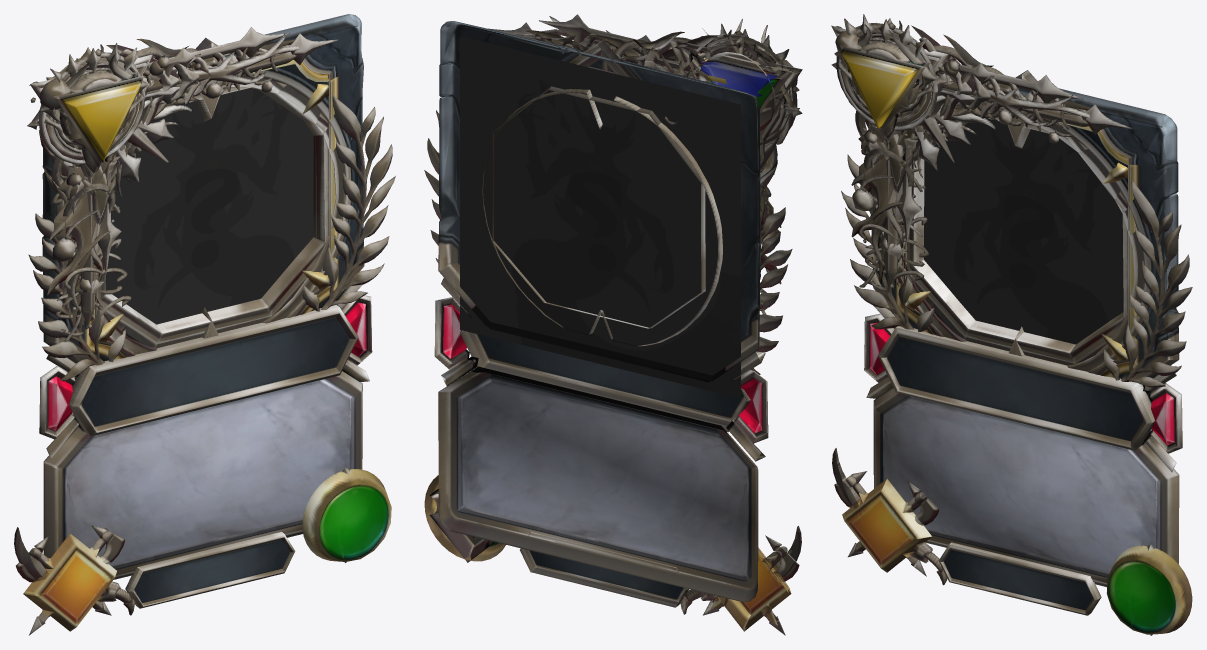
File: card.gltf
The picture shows the model from 3 angles, left to right: view 1: azimuth 30°, elevation 25°; view 2: azimuth 150°, elevation 25°; view 3: azimuth 330°, elevation 25°; orthographic projection. The views are drawn at different scales.
Parts seen in each view (by area): view 1: M_Card_Description, Illustration, M_Card_Name, M_Card_Wreath.001, M_Rosette_Light, M_Card_Border_Weapon, M_Rosette_War, M_Card_Tribe, M_Card_Creature_Health, M_Card_Weapon_Attack, M_Rosette_Nature, M_Card_Border_Hero (+11 smaller); view 2: Illustration, M_Card_Description, M_Card_Border_Advantage, M_Card_Name, M_Rosette_Magic, M_Card_Border_Power, M_Card_Border_Weapon, M_Card_Tribe, M_Card_GemSockets, M_Card_Wreath.001, M_Card_Creature_Attack, M_Rosette_Nature (+12 smaller); view 3: M_Card_Description, Illustration, M_Card_Name, M_Card_Wreath.001, M_Rosette_Light, M_Card_Border_Weapon, M_Rosette_War, M_Card_Tribe, M_Card_Creature_Health, M_Card_Weapon_Attack, M_Card_Border_Spell, M_Rosette_Nature (+11 smaller).
Part boxes in pixels (box(x1,y1,x2,y2)): M_Card_Description: box(43, 371, 362, 579); Illustration: box(67, 88, 344, 386); M_Card_Name: box(69, 305, 358, 436); M_Card_Wreath.001: box(28, 93, 395, 381); M_Rosette_Light: box(38, 47, 296, 325); M_Card_Border_Weapon: box(97, 79, 328, 347); M_Rosette_War: box(41, 27, 338, 327); M_Card_Tribe: box(125, 532, 295, 608); M_Card_Creature_Health: box(302, 469, 391, 561); M_Card_Weapon_Attack: box(16, 525, 125, 635); M_Rosette_Nature: box(29, 33, 300, 314); M_Card_Border_Hero: box(43, 14, 363, 362); Illustration: box(460, 36, 740, 398); M_Card_Description: box(438, 366, 758, 601); M_Card_Border_Advantage: box(439, 21, 760, 382); M_Card_Name: box(460, 330, 750, 432); M_Rosette_Magic: box(525, 30, 802, 212); M_Card_Border_Power: box(438, 21, 759, 381); M_Card_Border_Weapon: box(438, 21, 759, 356); M_Card_Tribe: box(520, 532, 688, 607); M_Card_GemSockets: box(434, 278, 768, 461); M_Card_Wreath.001: box(424, 110, 792, 374); M_Card_Creature_Attack: box(680, 526, 801, 628); M_Rosette_Nature: box(523, 16, 800, 284); M_Card_Description: box(873, 387, 1179, 586); Illustration: box(891, 118, 1157, 403); M_Card_Name: box(878, 326, 1154, 450); M_Card_Wreath.001: box(841, 154, 1192, 387); M_Rosette_Light: box(835, 23, 1088, 283); M_Card_Border_Weapon: box(906, 117, 1177, 365); M_Rosette_War: box(838, 14, 1132, 283); M_Card_Tribe: box(938, 542, 1101, 615); M_Card_Creature_Health: box(1106, 545, 1192, 634); M_Card_Weapon_Attack: box(834, 471, 939, 576); M_Card_Border_Spell: box(875, 108, 1178, 373); M_Rosette_Nature: box(833, 20, 1089, 286).
Bounding box in the file's own units: 13.52 × 20.13 × 1.84.
2 materials, 2 textured.
